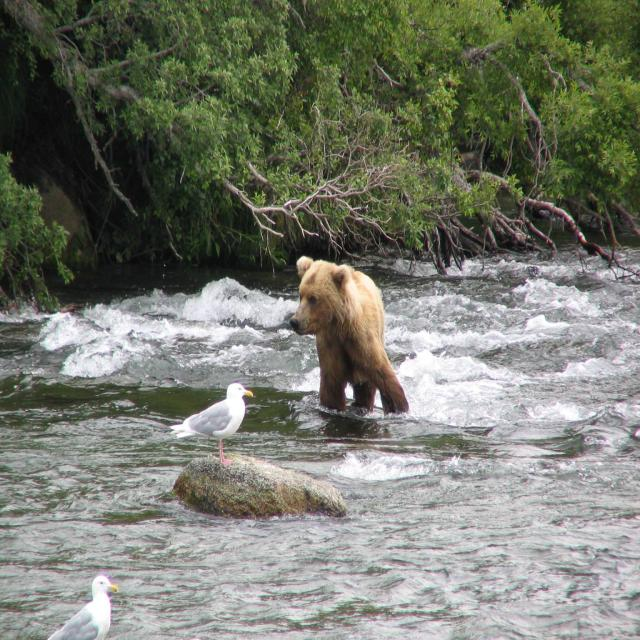bear face: (289, 253, 409, 413)
